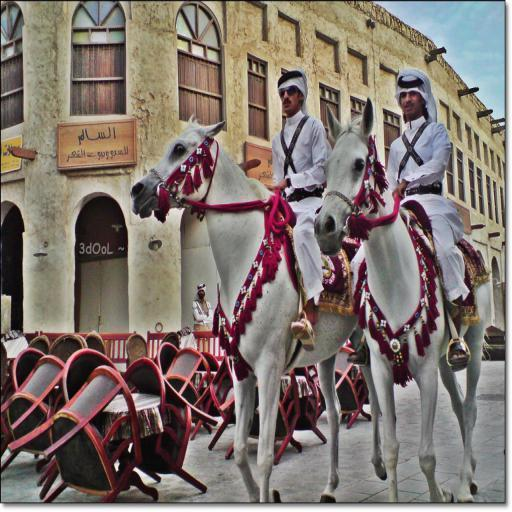horse: (130, 114, 388, 508), (314, 99, 492, 504)
